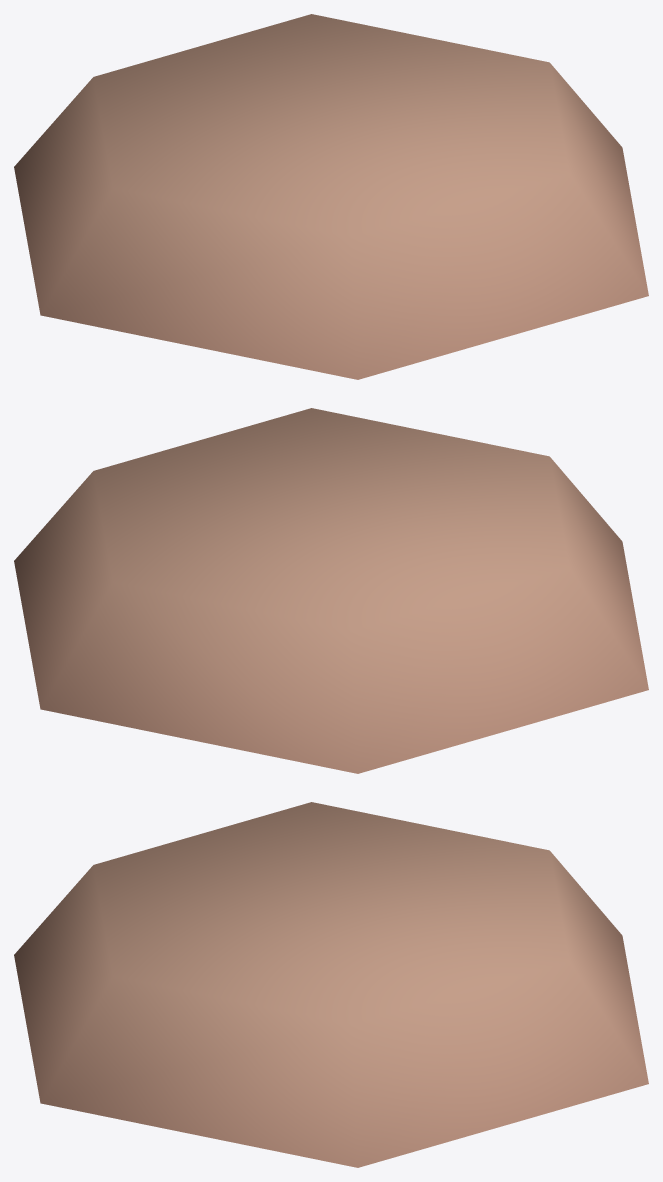
Rendered from (%no-merge) 9.glb.
The picture shows the model from 3 angles, top to bottom: view 1: azimuth 30°, elevation 25°; view 2: azimuth 150°, elevation 25°; view 3: azimuth 270°, elevation 25°; orthographic projection.
Parts seen in each view (by area): view 1: (%no-merge) 9; view 2: (%no-merge) 9; view 3: (%no-merge) 9.
Part boxes in pixels (x1=…): (%no-merge) 9: x1=14, y1=14, x2=648, y2=379; (%no-merge) 9: x1=14, y1=408, x2=648, y2=773; (%no-merge) 9: x1=14, y1=802, x2=648, y2=1167.
Size of the model in its own units: 0.0708 by 0.0118 by 0.064.
